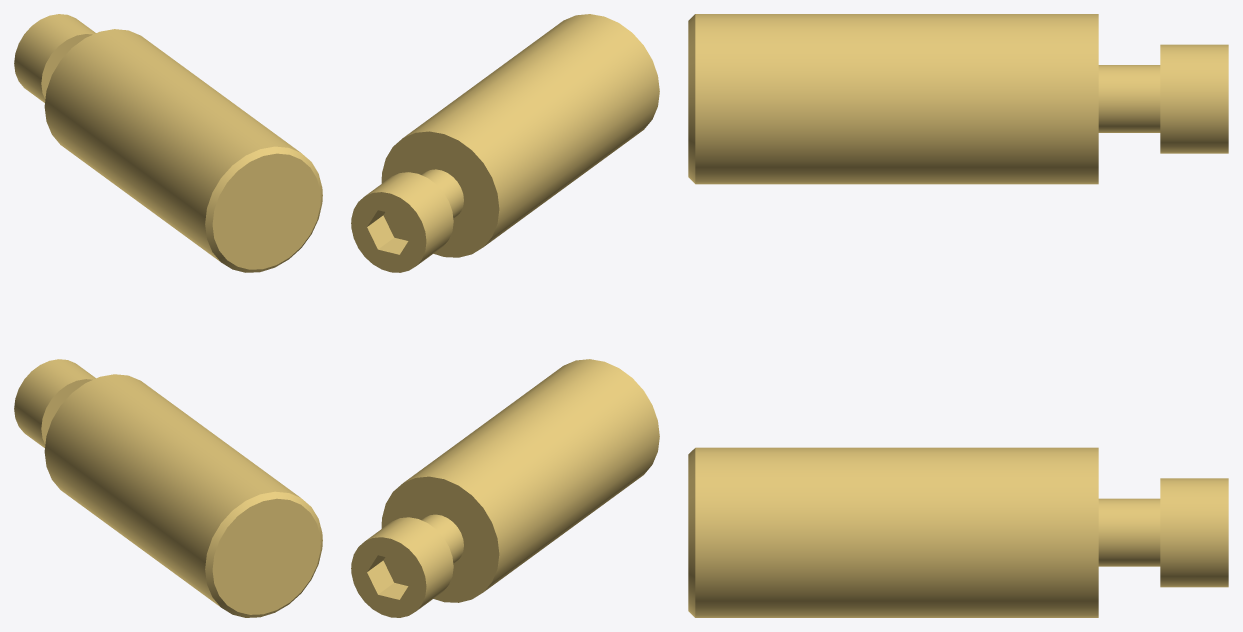
File: support.glb
The picture shows the model from 3 angles, left to right: view 1: azimuth 30°, elevation 25°; view 2: azimuth 150°, elevation 25°; view 3: azimuth 270°, elevation 25°; orthographic projection. The views are drawn at different scales.
Visible parts, largest first — view 1: Button_support_asy_065 (×2), Button_shcs_066 (×2); view 2: Button_support_asy_065 (×2), Button_shcs_066 (×2); view 3: Button_support_asy_065 (×2), Button_shcs_066 (×2).
Boxes of the visible parts, bbox=[...] form: Button_support_asy_065 (×2): bbox=[44, 29, 322, 617]; Button_shcs_066 (×2): bbox=[14, 14, 95, 447]; Button_support_asy_065 (×2): bbox=[381, 14, 659, 602]; Button_shcs_066 (×2): bbox=[351, 169, 463, 617]; Button_support_asy_065 (×2): bbox=[688, 14, 1098, 617]; Button_shcs_066 (×2): bbox=[1098, 44, 1228, 587].
Bounding box in the file's own units: 0.025 × 0.095 × 0.079.
